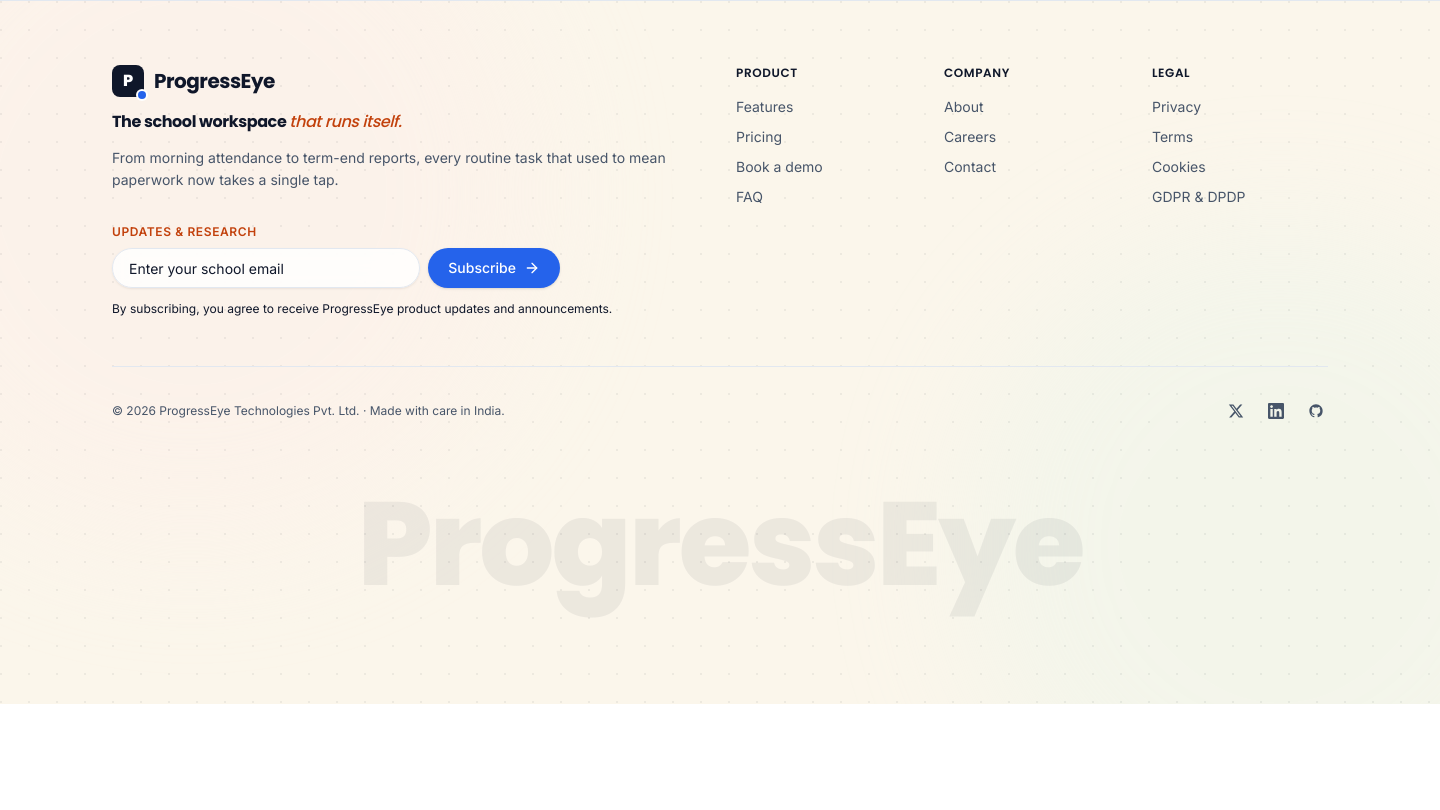
Test: Footer & Newsletter Form Unit Tests › validates email input and prevents empty submission
Click the button "Subscribe". click: (494, 268)
box: [428, 248, 560, 288]
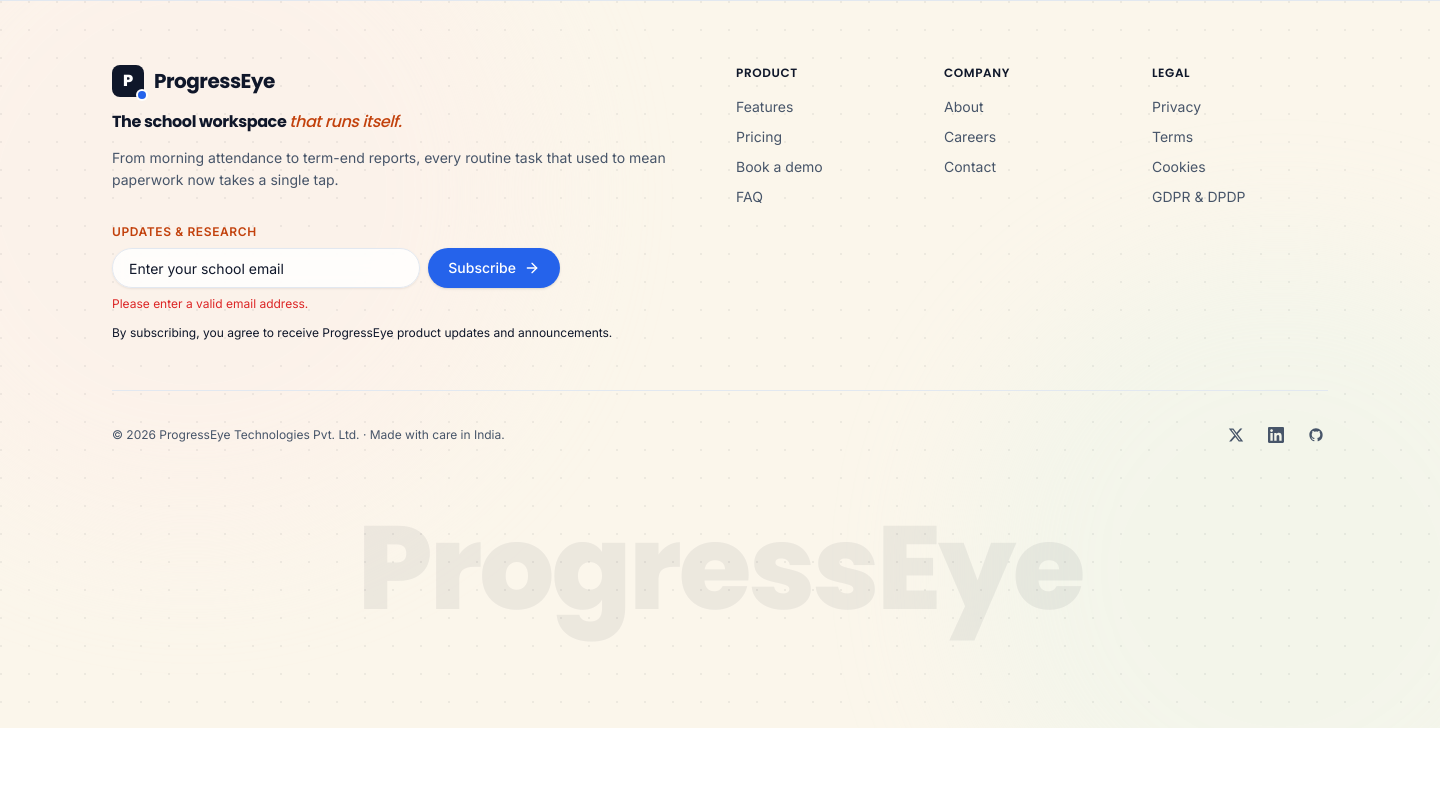
Now the text "Please enter a valid email address." is shown, box [112, 296, 308, 311]
